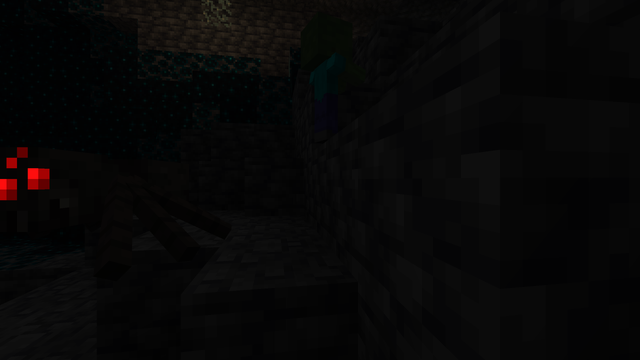araignees: (5, 132, 204, 284)
zombies: (308, 33, 343, 143)
